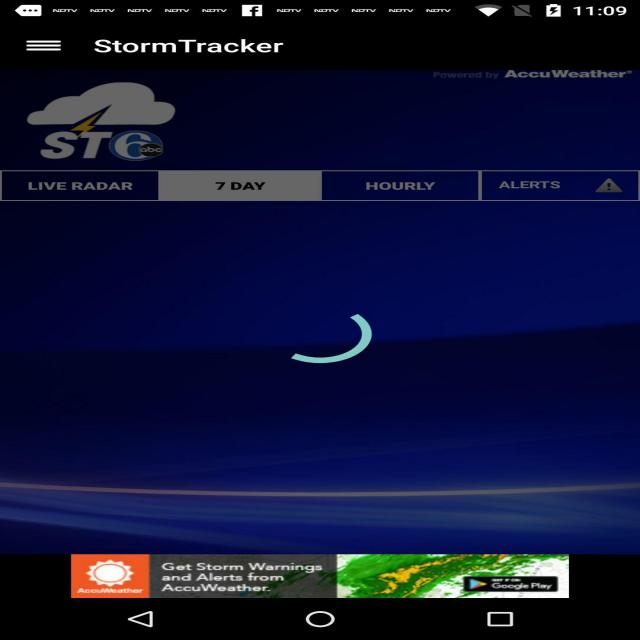icon: (35, 74, 231, 160)
